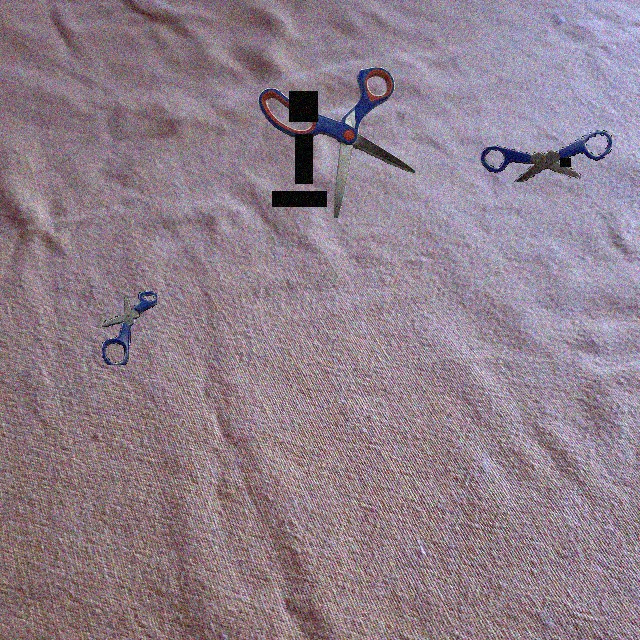scissors: (258, 67, 415, 218), (481, 130, 612, 182), (102, 290, 157, 365)
